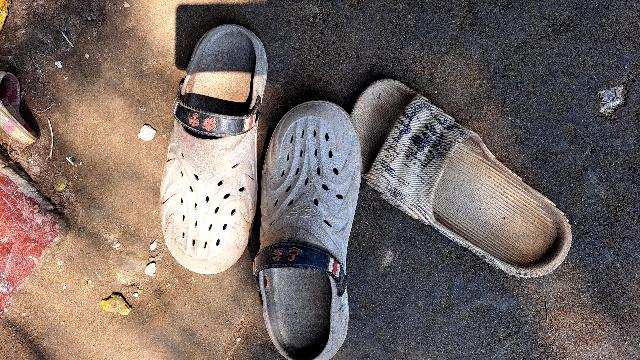sandal: (322, 62, 596, 311), (142, 21, 286, 294), (261, 108, 370, 357)
